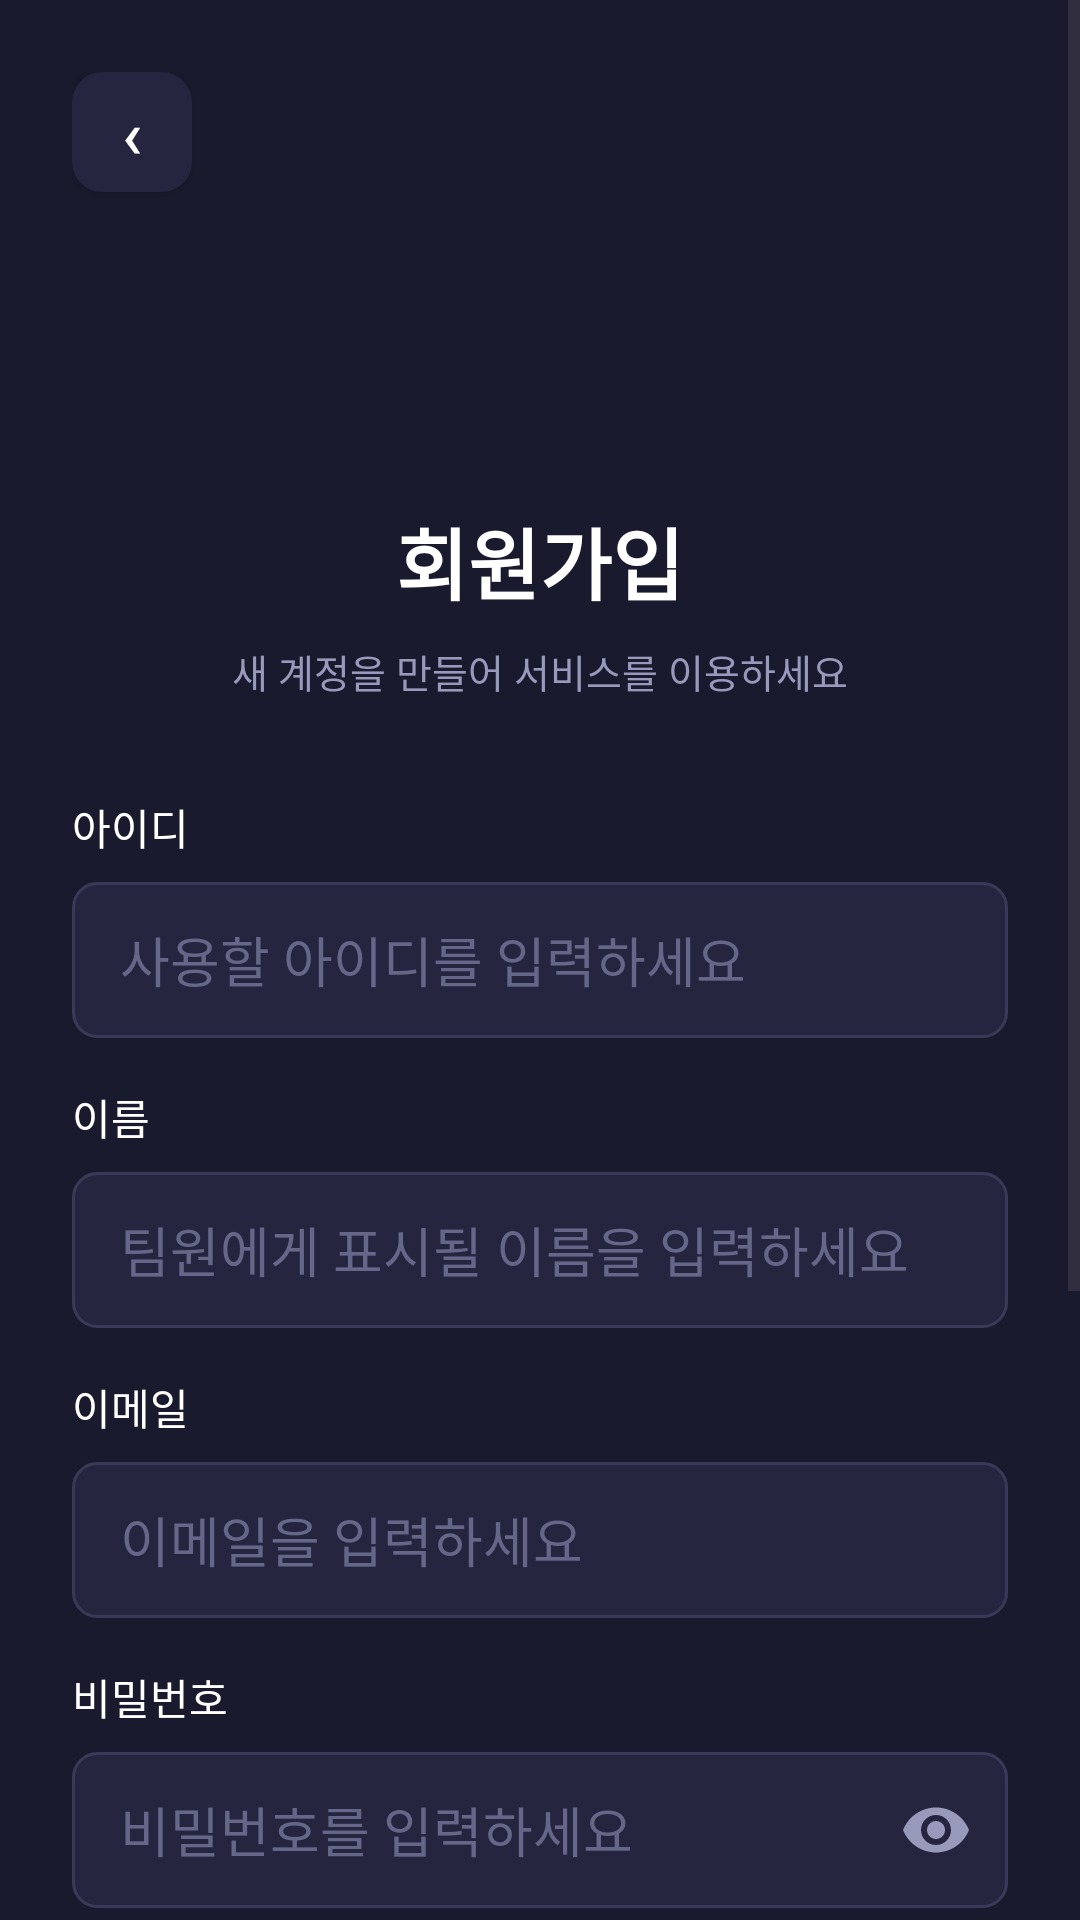

Icon click points for this 1080px×1920px phone screenshot, format (x=x, y=y):
비밀번호 표시: (x=936, y=1830)
